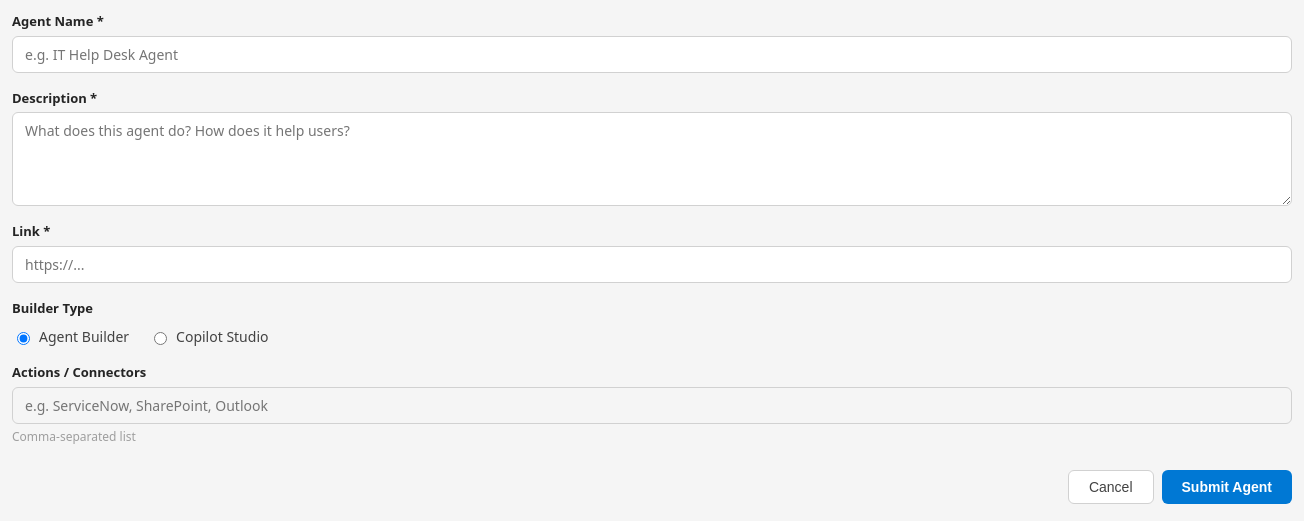
Test: AgentForm › clears connectors when toggling from copilot-studio back to agent-builder
This screenshot has width=1304, height=521.
Step 1. Click the radio button labelled "Copilot Studio" → (161, 338), box [154,332,167,344]
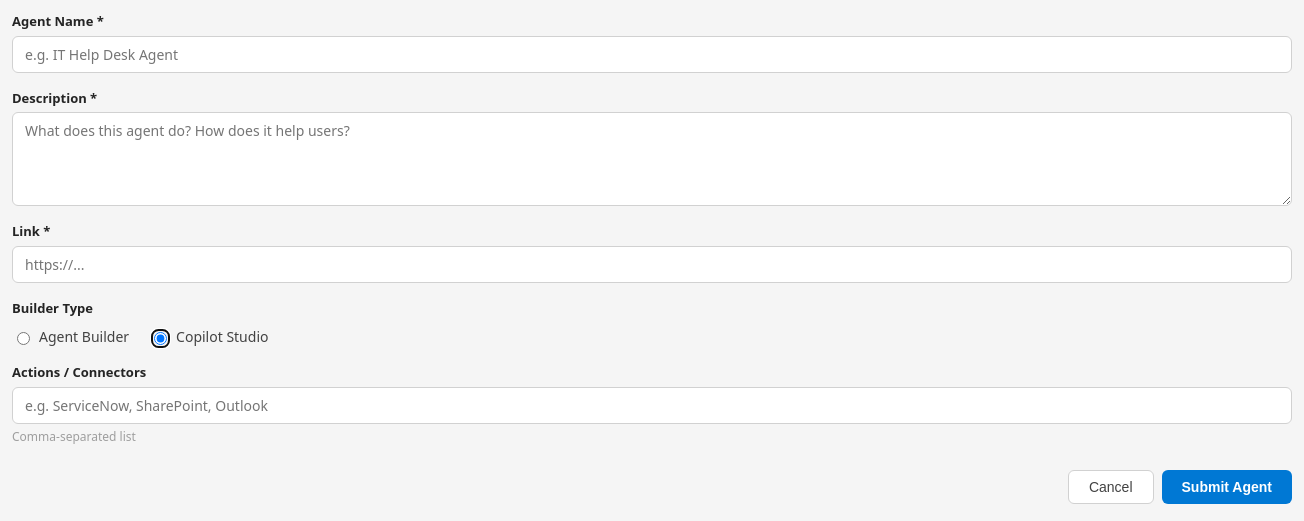
Step 2. Type "SharePoint, Teams" into the field labelled "Actions / Connectors" → (652, 405), box [12,386,1292,424]
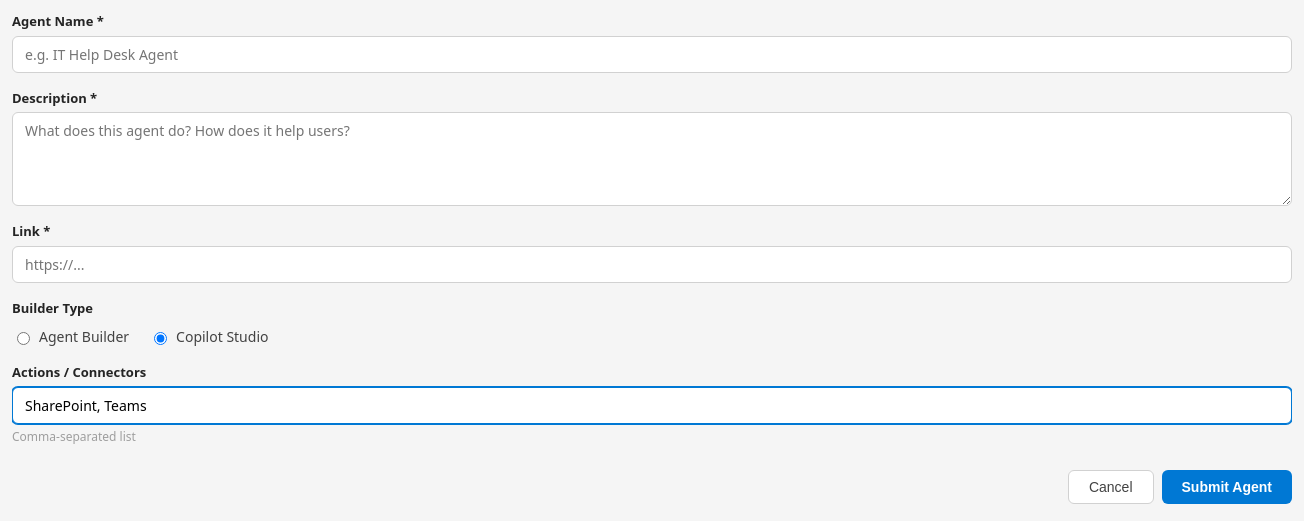
Step 3. Click the radio button labelled "Agent Builder" → (24, 338), box [17,332,30,344]
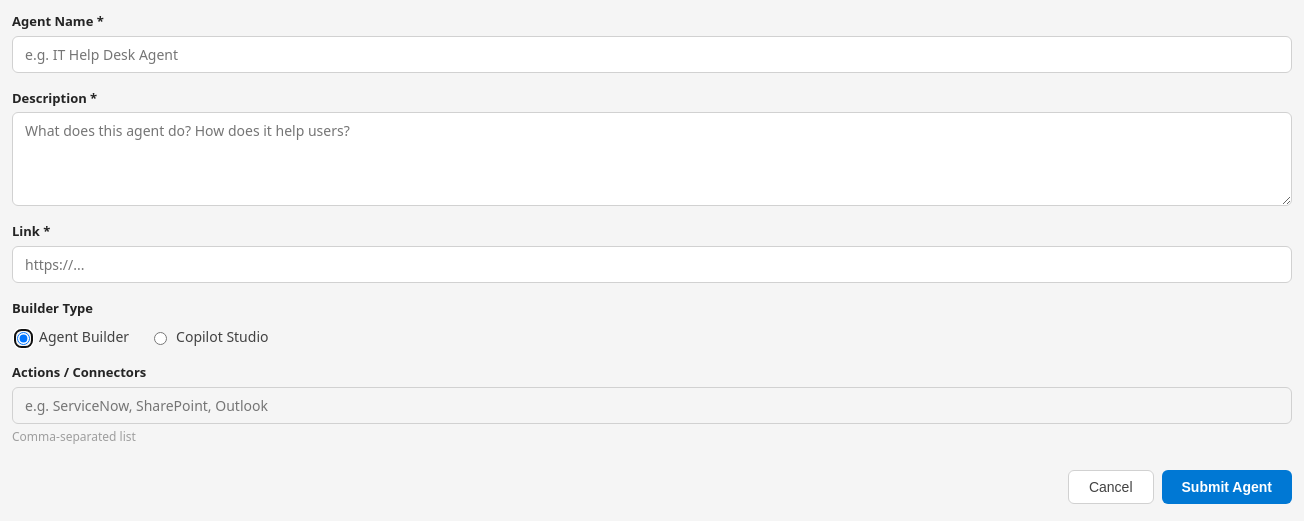
Check: the field labelled "Actions / Connectors" is empty, box [12,386,1292,424]
Check: the field labelled "Actions / Connectors" is disabled, box [12,386,1292,424]
